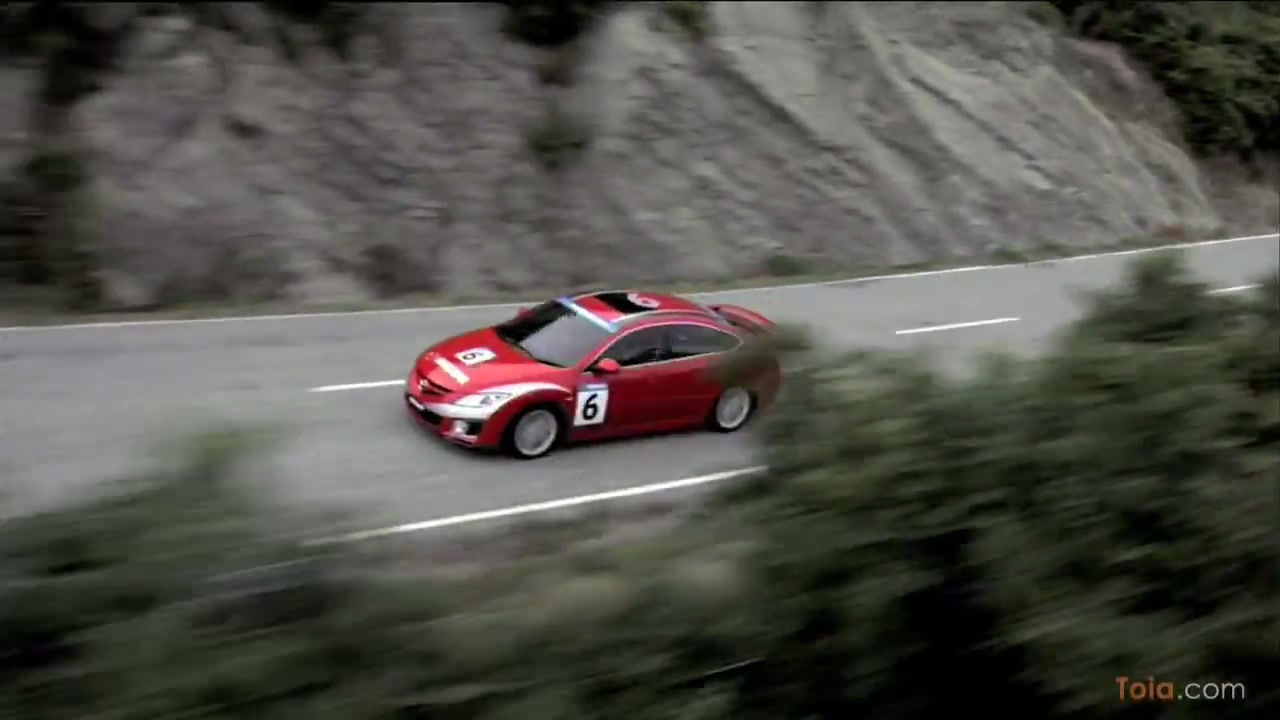car: (399, 291, 791, 462)
